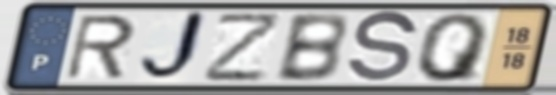B: (271, 10, 351, 85)
J: (135, 8, 211, 87)
Q: (414, 11, 494, 85)
R: (62, 12, 140, 82)
S: (343, 8, 422, 88)
Z: (201, 10, 286, 85)
